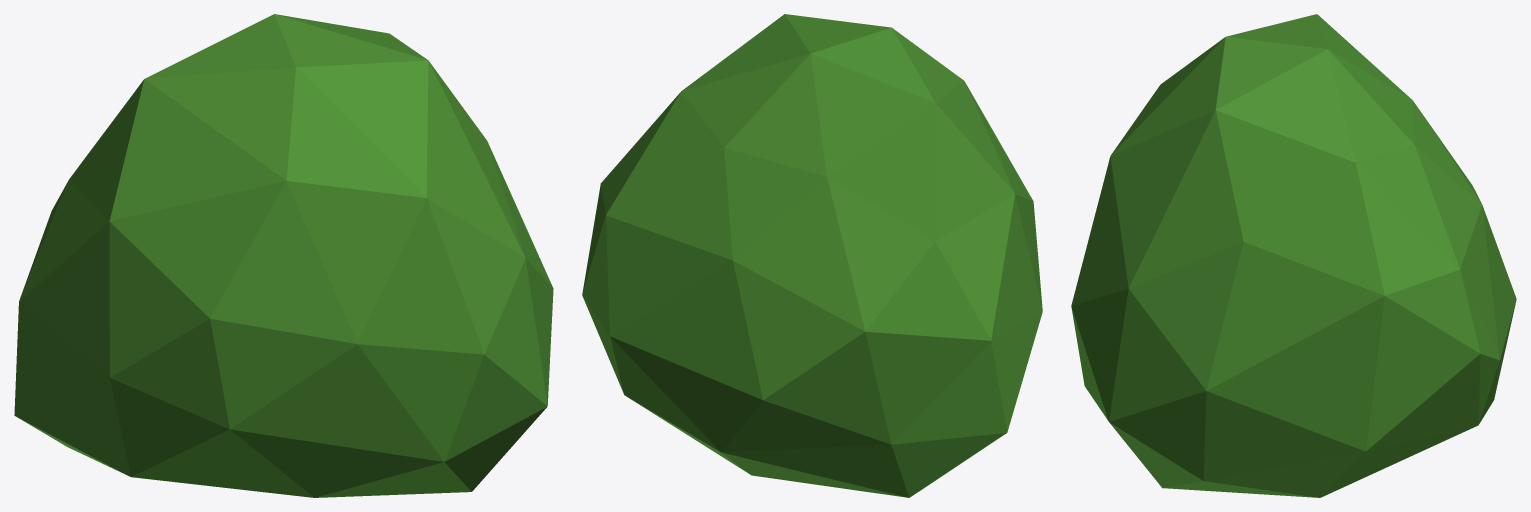
The model's file is Bush2.fbx.
3 renders of one model, left to right at view 1: azimuth 30°, elevation 25°; view 2: azimuth 150°, elevation 25°; view 3: azimuth 270°, elevation 25°, orthographic. The views are drawn at different scales.
Parts seen in each view (by area): view 1: Icosphere.005; view 2: Icosphere.005; view 3: Icosphere.005.
Boxes of the visible parts, x1=… form: Icosphere.005: x1=14, y1=14, x2=553, y2=497; Icosphere.005: x1=582, y1=14, x2=1042, y2=497; Icosphere.005: x1=1071, y1=14, x2=1516, y2=497.
Bounding box in the file's own units: 152 × 140 × 143.
